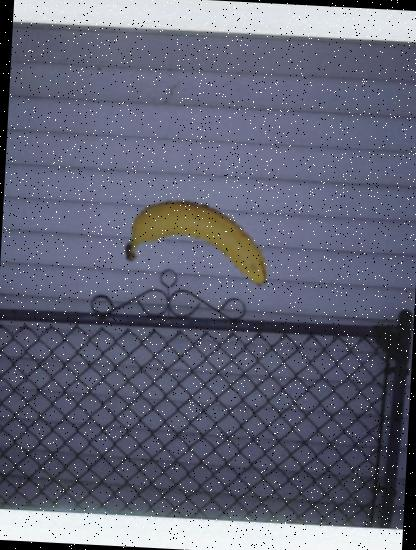Banana: (121, 172, 279, 330)
